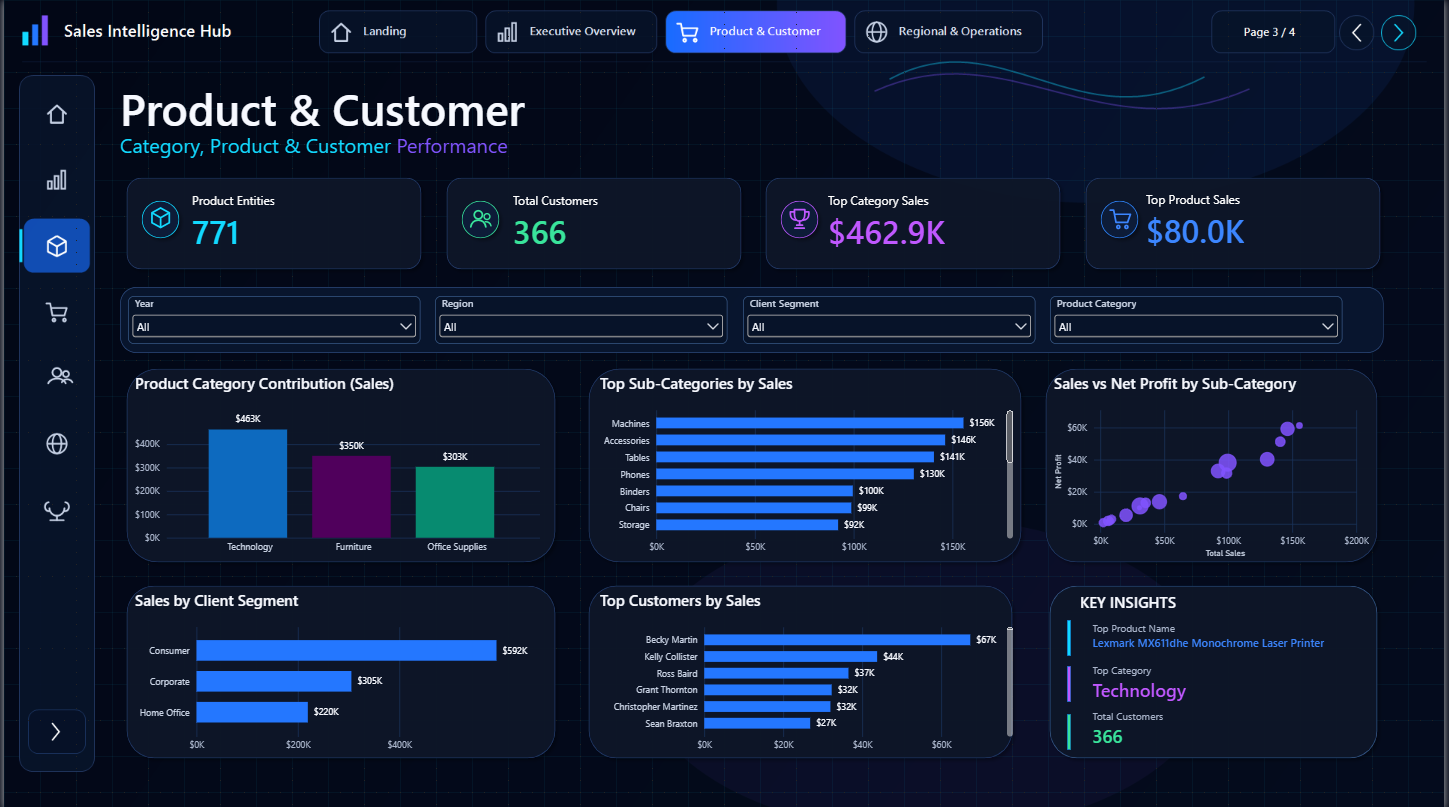

The dashboard page shown, as its layout file describes it:
{"tool":"powerbi","page":{"name":"Product & Customer","canvas":[1920,1080],"ordinal":2},"visuals":[{"type":"shape","box":[155,382,1685,88],"z":0},{"type":"shape","box":[155,228,410.7,140],"z":1000},{"type":"shape","box":[882,14,240,56],"z":2000},{"type":"shape","box":[642,14,228,56],"z":3000},{"type":"shape","box":[420,14,210,56],"z":4000},{"type":"shape","box":[1134,14,250,56],"z":5000},{"type":"shape","box":[20,115,100,72],"z":6000},{"type":"shape","box":[20,203,100,72],"z":7000},{"type":"shape","box":[20,291,100,72],"z":8000},{"type":"shape","box":[20,379,100,72],"z":9000},{"type":"shape","box":[20,467,100,72],"z":10000},{"type":"shape","box":[20,555,100,72],"z":11000},{"type":"shape","box":[20,643,100,72],"z":12000},{"type":"shape","box":[1780,20,46,46],"z":13000},{"type":"shape","box":[1836,20,46,46],"z":14000},{"type":"textbox","box":[155,105,800,88],"z":15000},{"type":"textbox","box":[155,174,720,38],"z":16000},{"type":"shape","box":[581,228,410.7,140],"z":17000},{"type":"shape","box":[1433,228,410.7,140],"z":18000},{"type":"shape","box":[1007,228,410.7,140],"z":19000},{"type":"cardVisual","fields":{"Data":["_Measures.Product Entities"]},"box":[235,244,315,105],"z":20000},{"type":"cardVisual","fields":{"Data":["_Measures.Total Customers"]},"box":[662,244,315,105],"z":21000},{"type":"cardVisual","fields":{"Data":["_Measures.Top Category Sales"]},"box":[1083,244,315,105],"z":22000},{"type":"cardVisual","fields":{"Data":["_Measures.Top Product Sales"]},"box":[1507,243,315,105],"z":23000},{"type":"shape","box":[175,258,68,68],"z":24000},{"type":"shape","box":[601,258,68,68],"z":25000},{"type":"shape","box":[1027,258,68,68],"z":26000},{"type":"shape","box":[1453,258,68,68],"z":27000},{"type":"image","box":[185,273,47,37],"z":28000},{"type":"image","box":[612,273,47,37],"z":29000},{"type":"image","box":[1037,273,47,37],"z":30000},{"type":"image","box":[1465,273,47,37],"z":31000},{"type":"slicer","fields":{"Values":["Sales_Data.Product Category"]},"box":[1395,394,390,64],"z":32000},{"type":"slicer","fields":{"Values":["Sales_Data.Client Segment"]},"box":[985,394,390,64],"z":33000},{"type":"slicer","fields":{"Values":["Sales_Data.Region"]},"box":[575,394,390,64],"z":34000},{"type":"slicer","fields":{"Values":["Date.Year"]},"box":[165,394,390,64],"z":35000},{"type":"shape","box":[770.7,772,582.7,248],"z":36000},{"type":"shape","box":[154.7,482.7,589.3,276],"z":37000},{"type":"shape","box":[1385.3,772,454.7,248],"z":38000},{"type":"shape","box":[154.7,772,589.3,248],"z":39000},{"type":"shape","box":[1380,482,460,276],"z":40000},{"type":"shape","box":[770.7,482.7,594.7,276],"z":41000},{"type":"clusteredColumnChart","title":"Product Category Contribution (Sales)","fields":{"Category":["Sales_Data.Product Category"],"Y":["_Measures.Total Sales"]},"box":[166.7,490.7,556,257.3],"z":42000},{"type":"clusteredBarChart","title":"Top Sub-Categories by Sales","fields":{"Category":["Sales_Data.Sub-Category"],"Y":["_Measures.Total Sales"]},"box":[786.7,490.7,566.7,257.3],"z":43000},{"type":"scatterChart","title":"Sales vs Net Profit by Sub-Category","fields":{"Category":["Sales_Data.Sub-Category"],"Size":["_Measures.Total Units"],"X":["_Measures.Total Sales"],"Y":["_Measures.Net Profit"]},"box":[1392,490,436,258],"z":44000},{"type":"barChart","title":"Sales by Client Segment","fields":{"Category":["Sales_Data.Client Segment"],"Y":["_Measures.Total Sales"]},"box":[166.7,780,556,232],"z":45000},{"type":"clusteredBarChart","title":"Top Customers by Sales","fields":{"Category":["Sales_Data.Customer Name"],"Y":["_Measures.Total Sales"]},"box":[786.7,780,566.7,232],"z":46000},{"type":"textbox","box":[1435,788,360,34],"z":47000},{"type":"shape","box":[1417.3,888,5.3,48],"z":48000},{"type":"shape","box":[1417.3,826.7,5.3,48],"z":49000},{"type":"shape","box":[1417.3,952,5.3,48],"z":50000},{"type":"cardVisual","fields":{"Data":["_Measures.Top Product Name"]},"box":[1429,820,358.7,56],"z":51000},{"type":"cardVisual","fields":{"Data":["_Measures.Top Category"]},"box":[1429,882,350,56],"z":52000},{"type":"cardVisual","fields":{"Data":["_Measures.Total Customers"]},"box":[1429,944,350,56],"z":53000}]}

Visuals, with their boxes on the page's 1920x1080 design canvas (x1, y1, x2, y2). These are canvas units, not pixel positions in the 1449x807 screenshot, which may show the page scaled, cropped or inside an application window:
shape: {"x1": 155, "y1": 382, "x2": 1840, "y2": 470}
shape: {"x1": 155, "y1": 228, "x2": 566, "y2": 368}
shape: {"x1": 882, "y1": 14, "x2": 1122, "y2": 70}
shape: {"x1": 642, "y1": 14, "x2": 870, "y2": 70}
shape: {"x1": 420, "y1": 14, "x2": 630, "y2": 70}
shape: {"x1": 1134, "y1": 14, "x2": 1384, "y2": 70}
shape: {"x1": 20, "y1": 115, "x2": 120, "y2": 187}
shape: {"x1": 20, "y1": 203, "x2": 120, "y2": 275}
shape: {"x1": 20, "y1": 291, "x2": 120, "y2": 363}
shape: {"x1": 20, "y1": 379, "x2": 120, "y2": 451}
shape: {"x1": 20, "y1": 467, "x2": 120, "y2": 539}
shape: {"x1": 20, "y1": 555, "x2": 120, "y2": 627}
shape: {"x1": 20, "y1": 643, "x2": 120, "y2": 715}
shape: {"x1": 1780, "y1": 20, "x2": 1826, "y2": 66}
shape: {"x1": 1836, "y1": 20, "x2": 1882, "y2": 66}
textbox: {"x1": 155, "y1": 105, "x2": 955, "y2": 193}
textbox: {"x1": 155, "y1": 174, "x2": 875, "y2": 212}
shape: {"x1": 581, "y1": 228, "x2": 992, "y2": 368}
shape: {"x1": 1433, "y1": 228, "x2": 1844, "y2": 368}
shape: {"x1": 1007, "y1": 228, "x2": 1418, "y2": 368}
cardVisual - _Measures.Product Entities: {"x1": 235, "y1": 244, "x2": 550, "y2": 349}
cardVisual - _Measures.Total Customers: {"x1": 662, "y1": 244, "x2": 977, "y2": 349}
cardVisual - _Measures.Top Category Sales: {"x1": 1083, "y1": 244, "x2": 1398, "y2": 349}
cardVisual - _Measures.Top Product Sales: {"x1": 1507, "y1": 243, "x2": 1822, "y2": 348}
shape: {"x1": 175, "y1": 258, "x2": 243, "y2": 326}
shape: {"x1": 601, "y1": 258, "x2": 669, "y2": 326}
shape: {"x1": 1027, "y1": 258, "x2": 1095, "y2": 326}
shape: {"x1": 1453, "y1": 258, "x2": 1521, "y2": 326}
image: {"x1": 185, "y1": 273, "x2": 232, "y2": 310}
image: {"x1": 612, "y1": 273, "x2": 659, "y2": 310}
image: {"x1": 1037, "y1": 273, "x2": 1084, "y2": 310}
image: {"x1": 1465, "y1": 273, "x2": 1512, "y2": 310}
slicer - Sales_Data.Product Category: {"x1": 1395, "y1": 394, "x2": 1785, "y2": 458}
slicer - Sales_Data.Client Segment: {"x1": 985, "y1": 394, "x2": 1375, "y2": 458}
slicer - Sales_Data.Region: {"x1": 575, "y1": 394, "x2": 965, "y2": 458}
slicer - Date.Year: {"x1": 165, "y1": 394, "x2": 555, "y2": 458}
shape: {"x1": 771, "y1": 772, "x2": 1353, "y2": 1020}
shape: {"x1": 155, "y1": 483, "x2": 744, "y2": 759}
shape: {"x1": 1385, "y1": 772, "x2": 1840, "y2": 1020}
shape: {"x1": 155, "y1": 772, "x2": 744, "y2": 1020}
shape: {"x1": 1380, "y1": 482, "x2": 1840, "y2": 758}
shape: {"x1": 771, "y1": 483, "x2": 1365, "y2": 759}
"Product Category Contribution (Sales)" clusteredColumnChart: {"x1": 167, "y1": 491, "x2": 723, "y2": 748}
"Top Sub-Categories by Sales" clusteredBarChart: {"x1": 787, "y1": 491, "x2": 1353, "y2": 748}
"Sales vs Net Profit by Sub-Category" scatterChart: {"x1": 1392, "y1": 490, "x2": 1828, "y2": 748}
"Sales by Client Segment" barChart: {"x1": 167, "y1": 780, "x2": 723, "y2": 1012}
"Top Customers by Sales" clusteredBarChart: {"x1": 787, "y1": 780, "x2": 1353, "y2": 1012}
textbox: {"x1": 1435, "y1": 788, "x2": 1795, "y2": 822}
shape: {"x1": 1417, "y1": 888, "x2": 1423, "y2": 936}
shape: {"x1": 1417, "y1": 827, "x2": 1423, "y2": 875}
shape: {"x1": 1417, "y1": 952, "x2": 1423, "y2": 1000}
cardVisual - _Measures.Top Product Name: {"x1": 1429, "y1": 820, "x2": 1788, "y2": 876}
cardVisual - _Measures.Top Category: {"x1": 1429, "y1": 882, "x2": 1779, "y2": 938}
cardVisual - _Measures.Total Customers: {"x1": 1429, "y1": 944, "x2": 1779, "y2": 1000}
